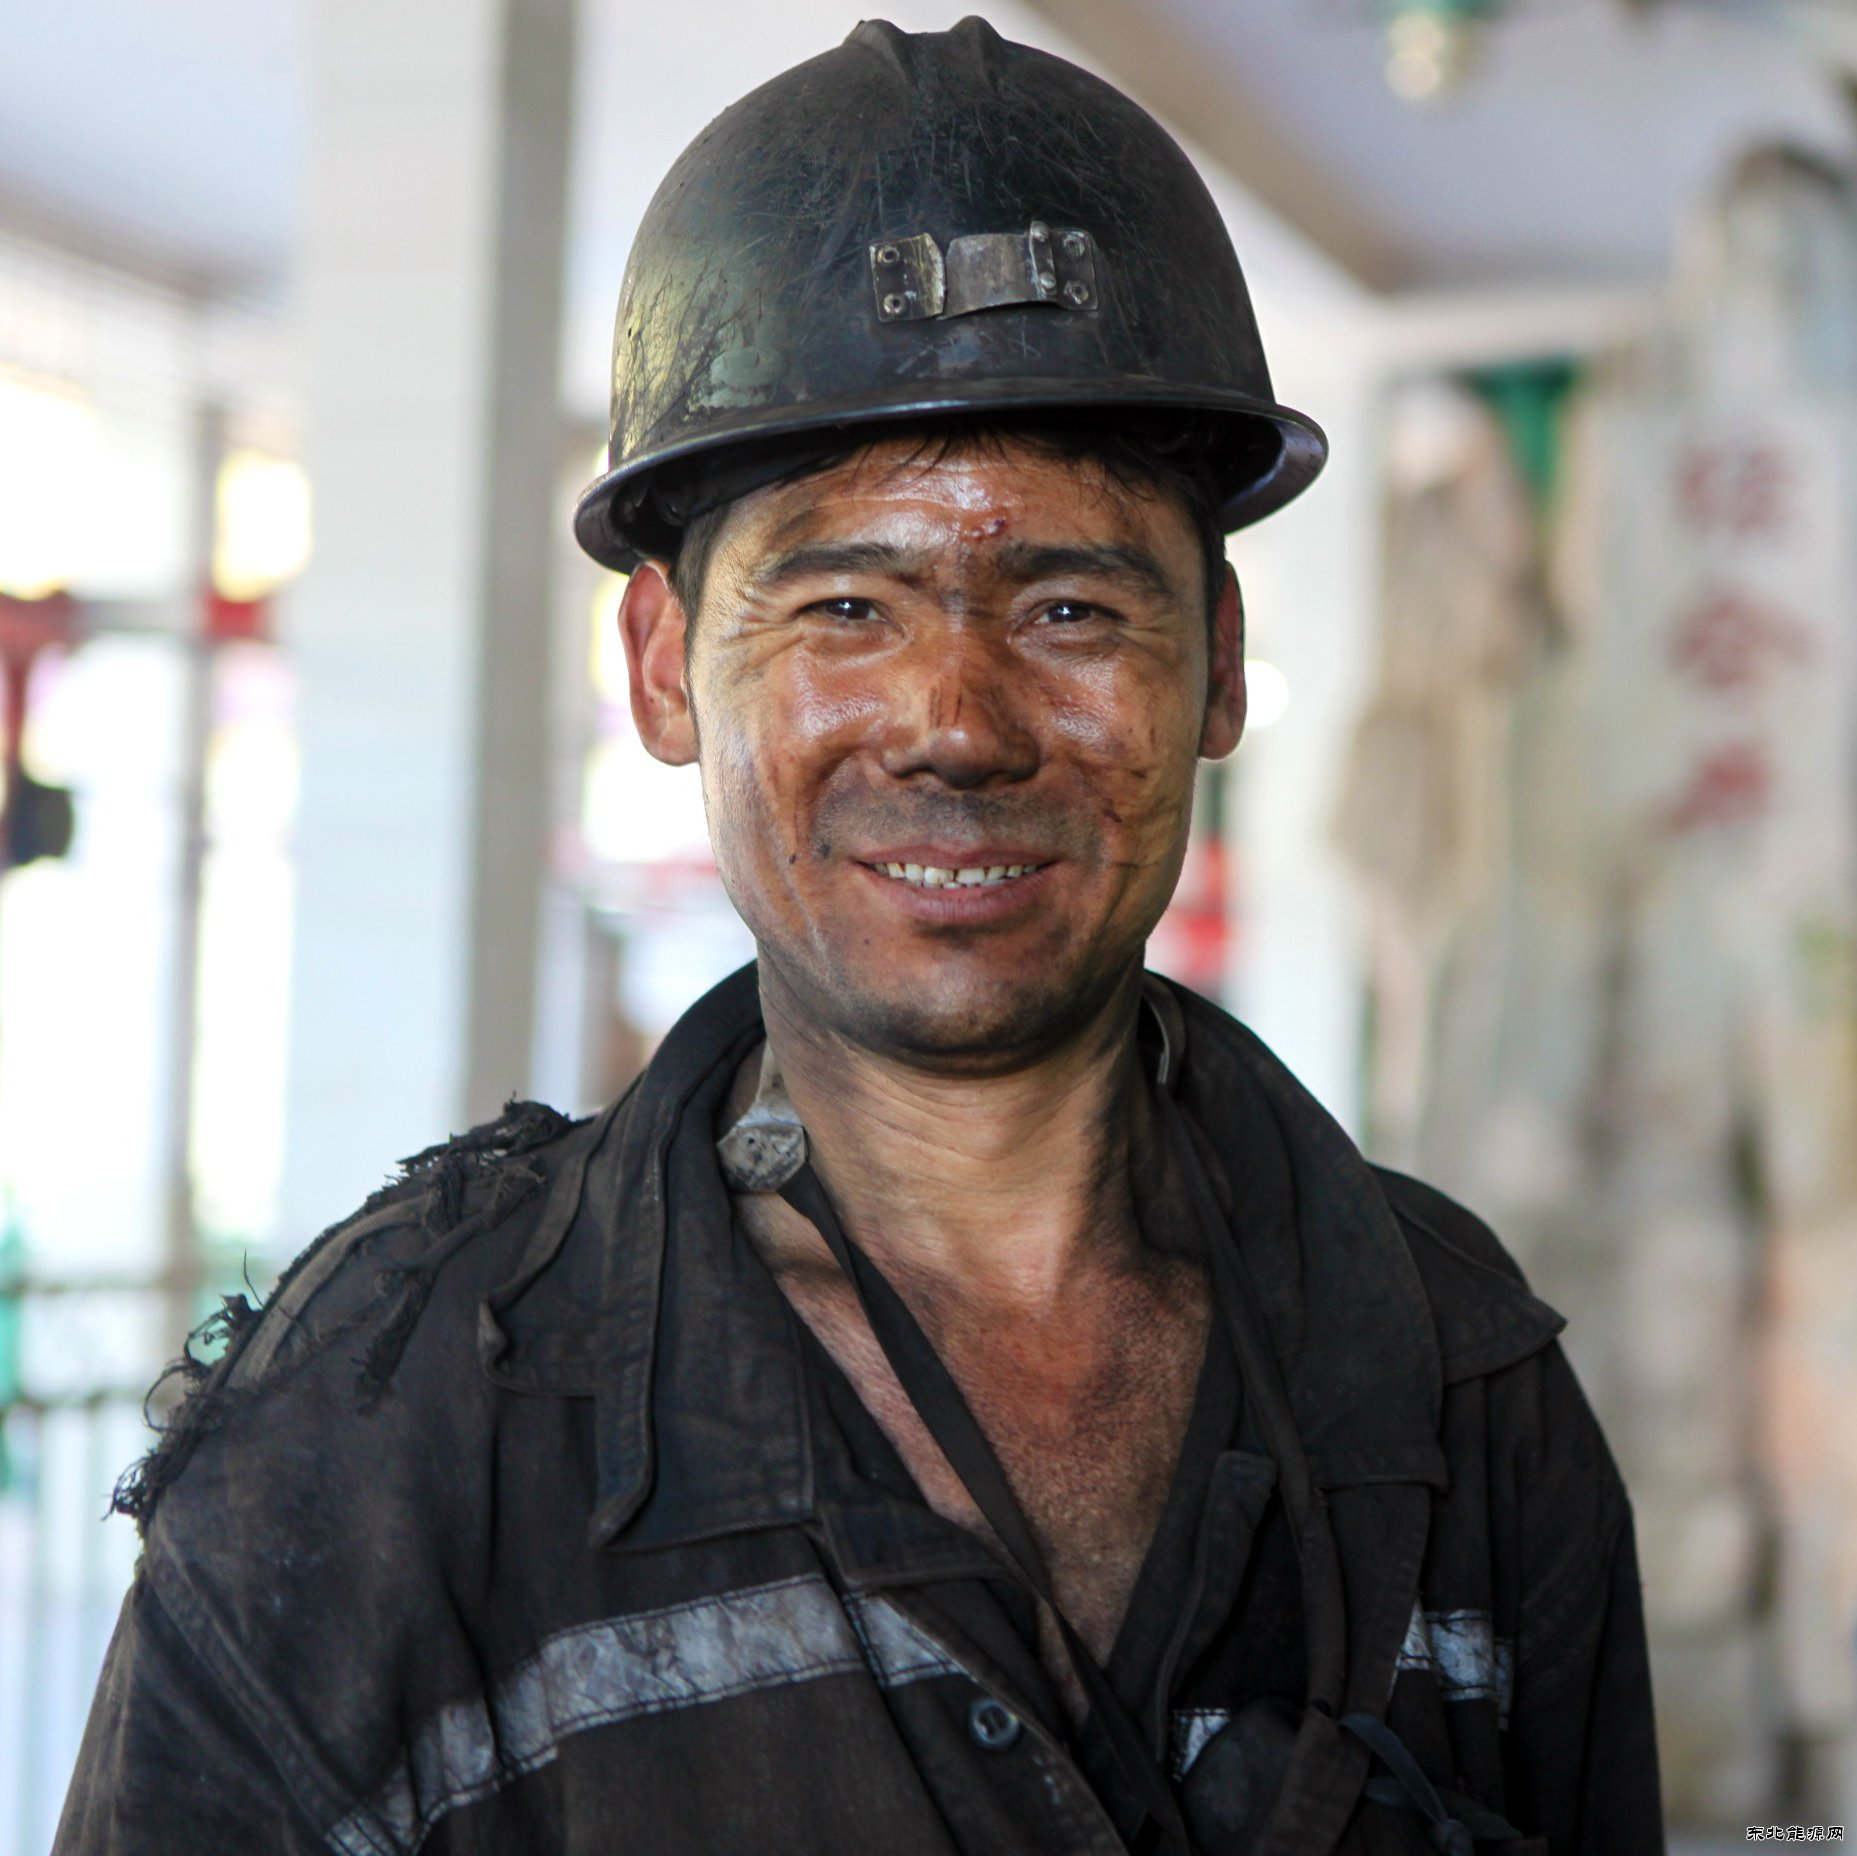helmet: (571, 31, 1363, 1054)
